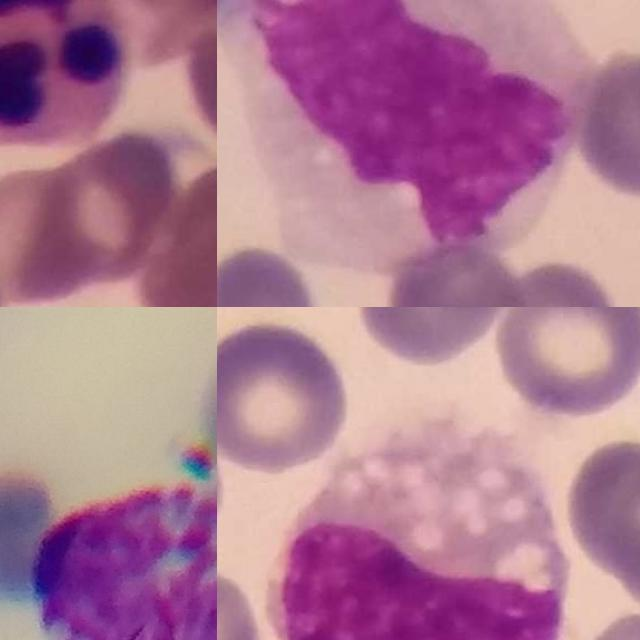Basophil: (31, 478, 217, 640)
Monocyte: (217, 0, 594, 265), (273, 429, 568, 640)
Neutrophil: (0, 0, 130, 145)
